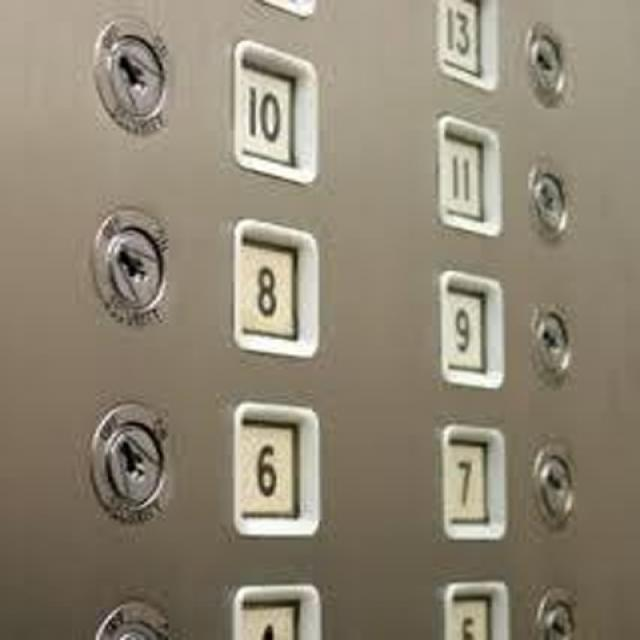10: (220, 30, 329, 195)
11: (427, 110, 509, 244)
6: (221, 384, 331, 550)
7: (431, 414, 513, 548)
8: (219, 206, 328, 371)
9: (429, 262, 512, 396)
keyhole: (81, 394, 175, 529), (84, 10, 180, 142), (85, 200, 175, 334), (507, 13, 581, 114), (513, 435, 588, 533), (509, 293, 584, 390), (509, 152, 584, 249)
